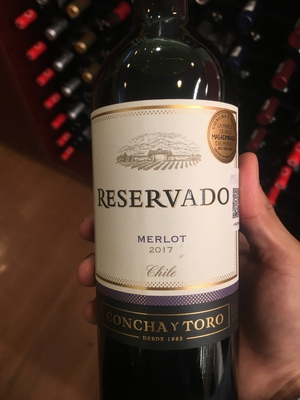reservado merlot: (90, 8, 264, 400)
